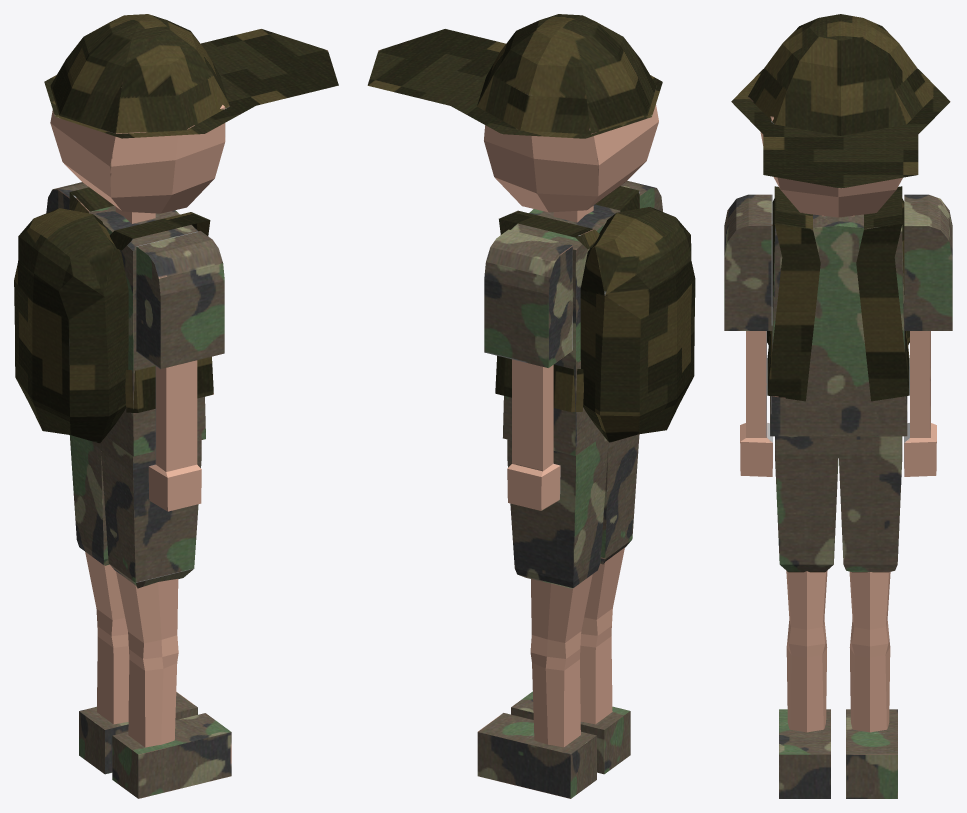
Rendered from renwu1.fbx.
3 renders of one model, left to right at view 1: azimuth 30°, elevation 25°; view 2: azimuth 150°, elevation 25°; view 3: azimuth 270°, elevation 25°, orthographic.
Parts seen in each view (by area): view 1: renwu1; view 2: renwu1; view 3: renwu1.
Boxes of the visible parts, left/top/right/bottom form: renwu1: left=14, top=14, right=338, bottom=798; renwu1: left=367, top=14, right=695, bottom=798; renwu1: left=724, top=14, right=952, bottom=798.
Bounding box in the file's own units: 0.7859 × 1.89 × 0.5236.
Materials: 1 (1 with a texture image).
